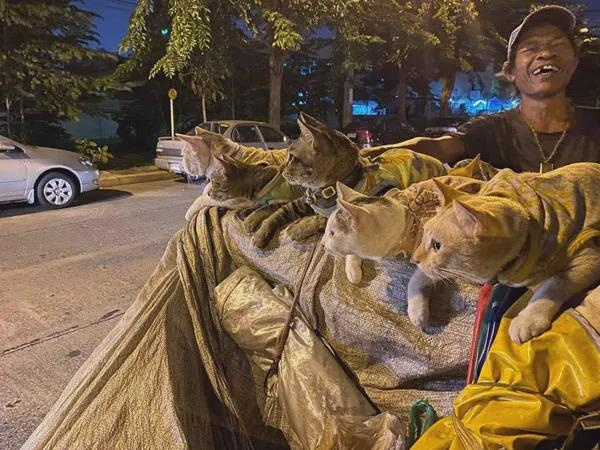cat: (408, 161, 600, 344), (253, 112, 448, 248), (325, 175, 486, 283), (175, 126, 291, 222), (208, 151, 309, 217)
